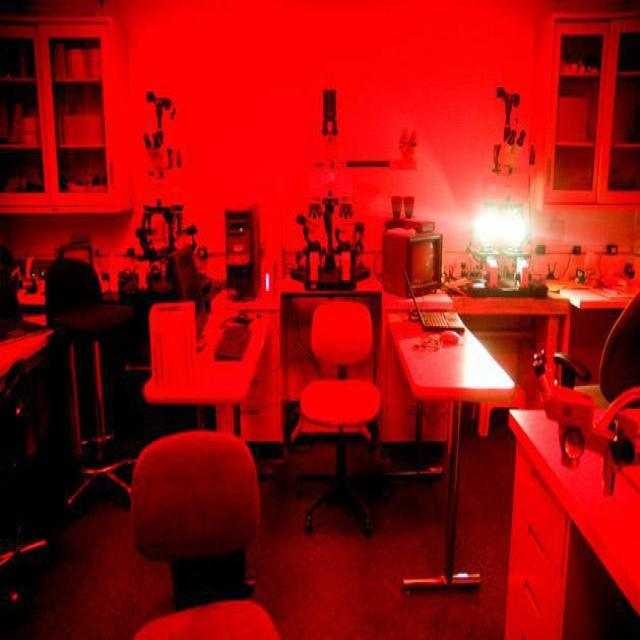other: (464, 200, 536, 255)
